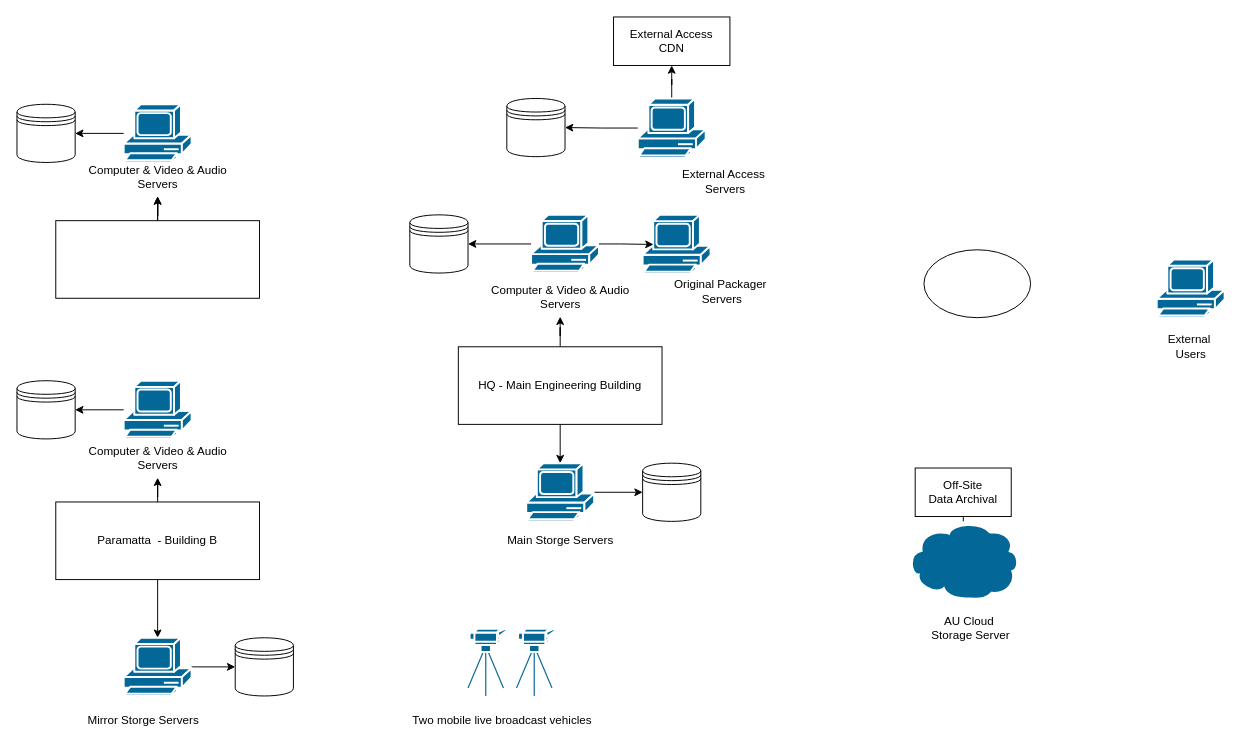
Some shapes in this 1243 by 752 pixel diagram are drawn without their labels. The shapes that lost their labels are listed below. From the top down, each one's centre as x and y in pixels, then its label:
pixel 157 259: Sutherland - Building A
pixel 977 283: Internet
